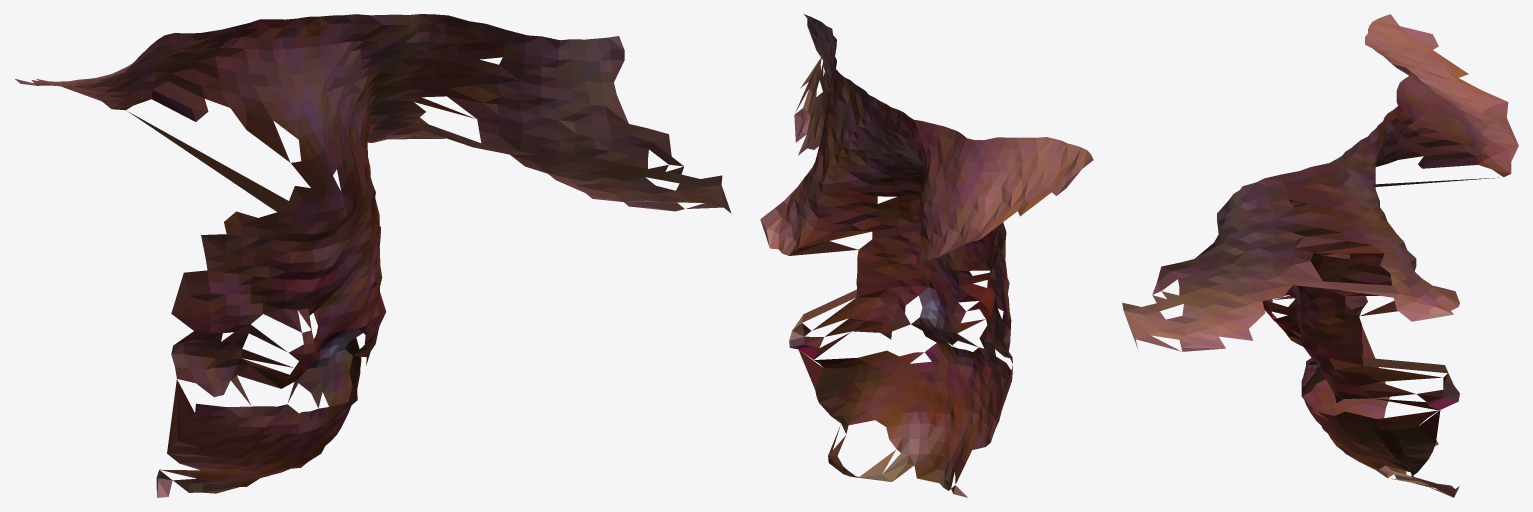
The picture shows the model from 3 angles, left to right: view 1: azimuth 30°, elevation 25°; view 2: azimuth 150°, elevation 25°; view 3: azimuth 270°, elevation 25°; orthographic projection. The views are drawn at different scales.
Parts seen in each view (by area): view 1: ofMesh; view 2: ofMesh; view 3: ofMesh.
Boxes of the visible parts, x1,y1,x2,y2 form: ofMesh: (15,14,731,497); ofMesh: (760,14,1093,497); ofMesh: (1122,14,1518,497).
Bounding box in the file's own units: 336 × 276 × 263.
Materials: 1 (1 with a texture image).
